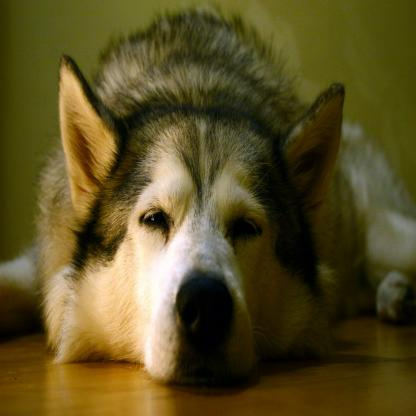husky: (0, 12, 413, 388)
